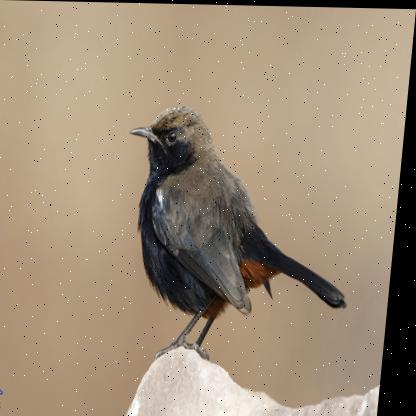Burung: (116, 104, 367, 365)
